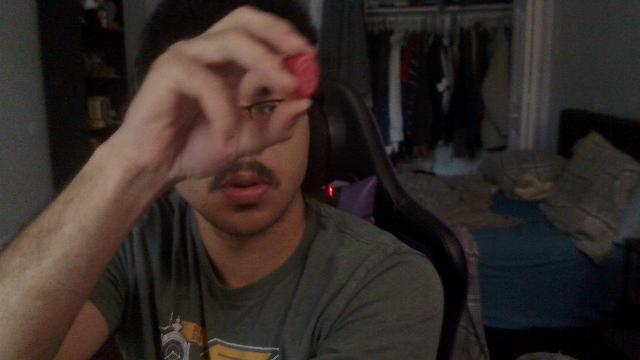cap: (292, 50, 318, 100)
